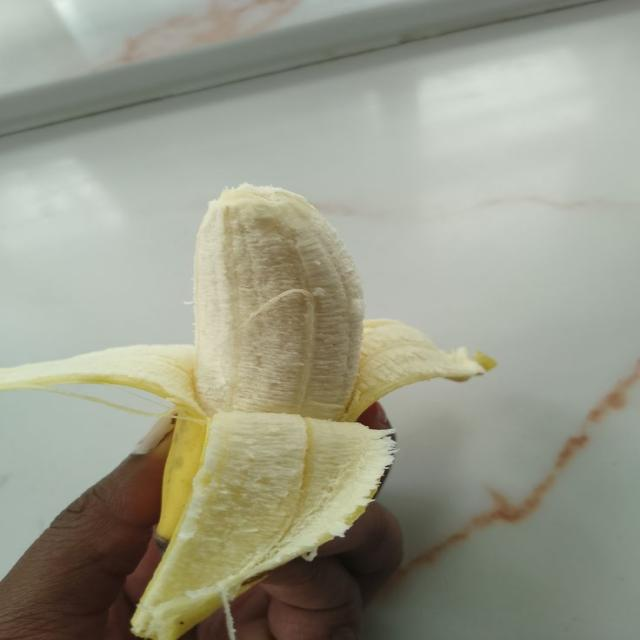banana: (0, 185, 493, 639), (195, 185, 363, 419)
